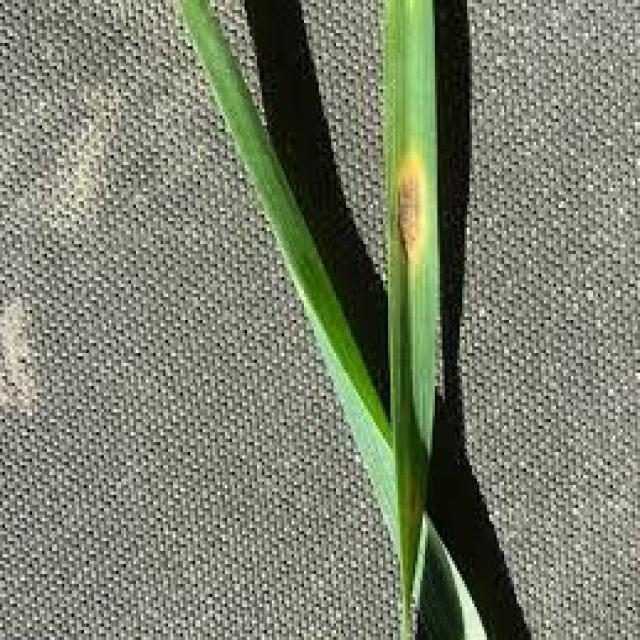leaf_blight: (383, 0, 432, 630)
